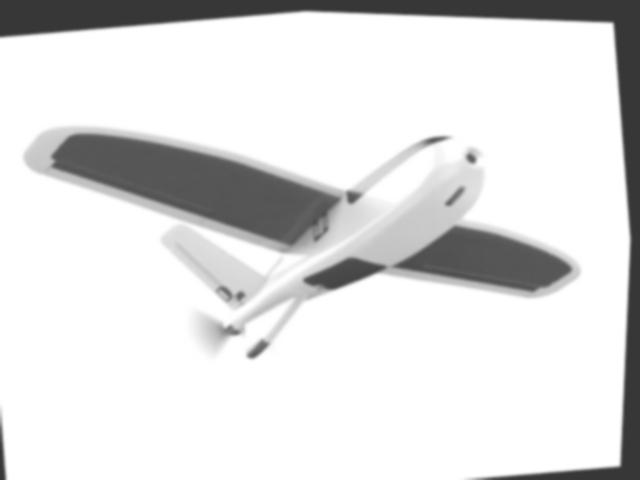uav: (10, 63, 594, 389)
